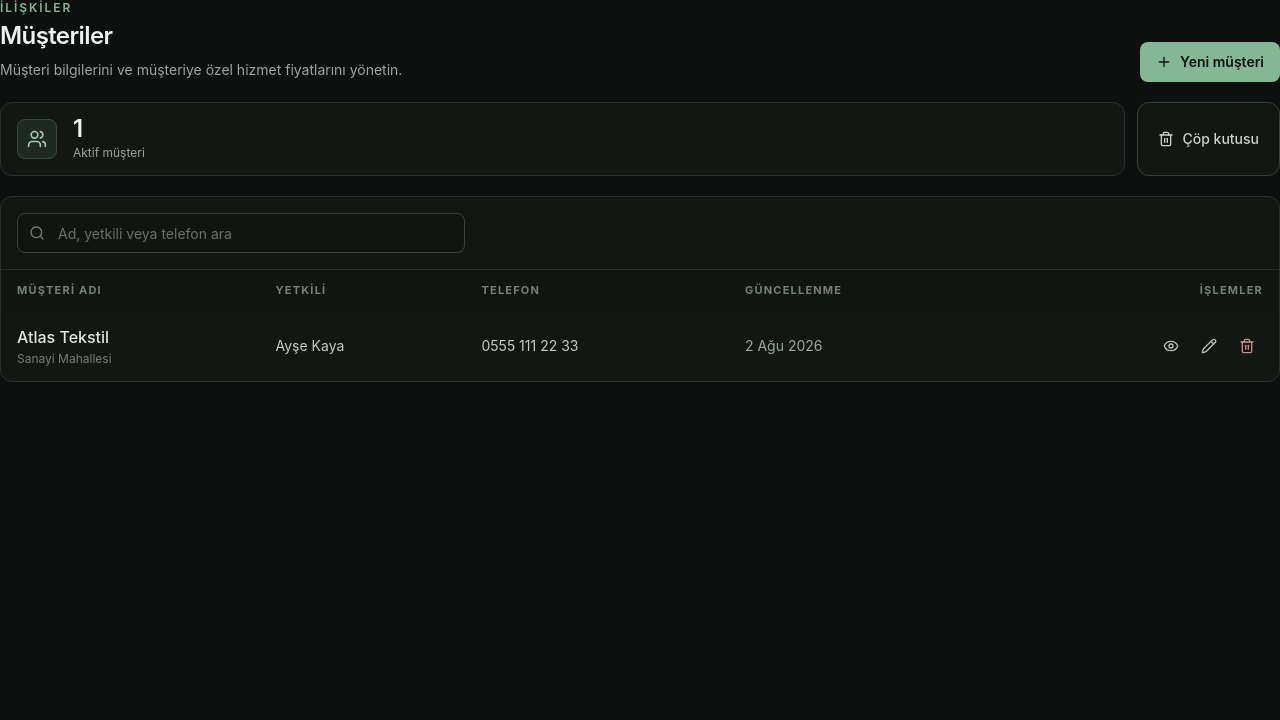
Test: CustomerPage › create formunda zorunlu alan validasyonunu gösterir
Click the button "Yeni müşteri": (1210, 62) 1140,42 -> 1279,82
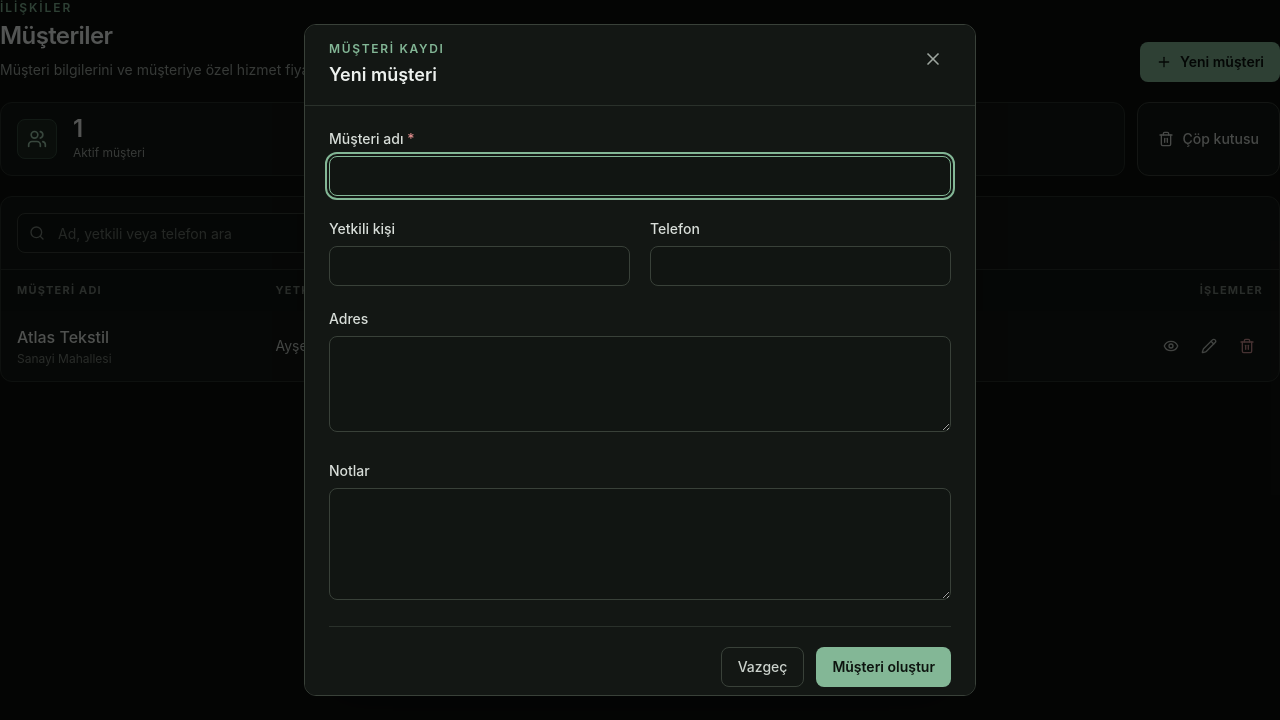
Click the button "Müşteri oluştur": (884, 667) 816,647 -> 951,687
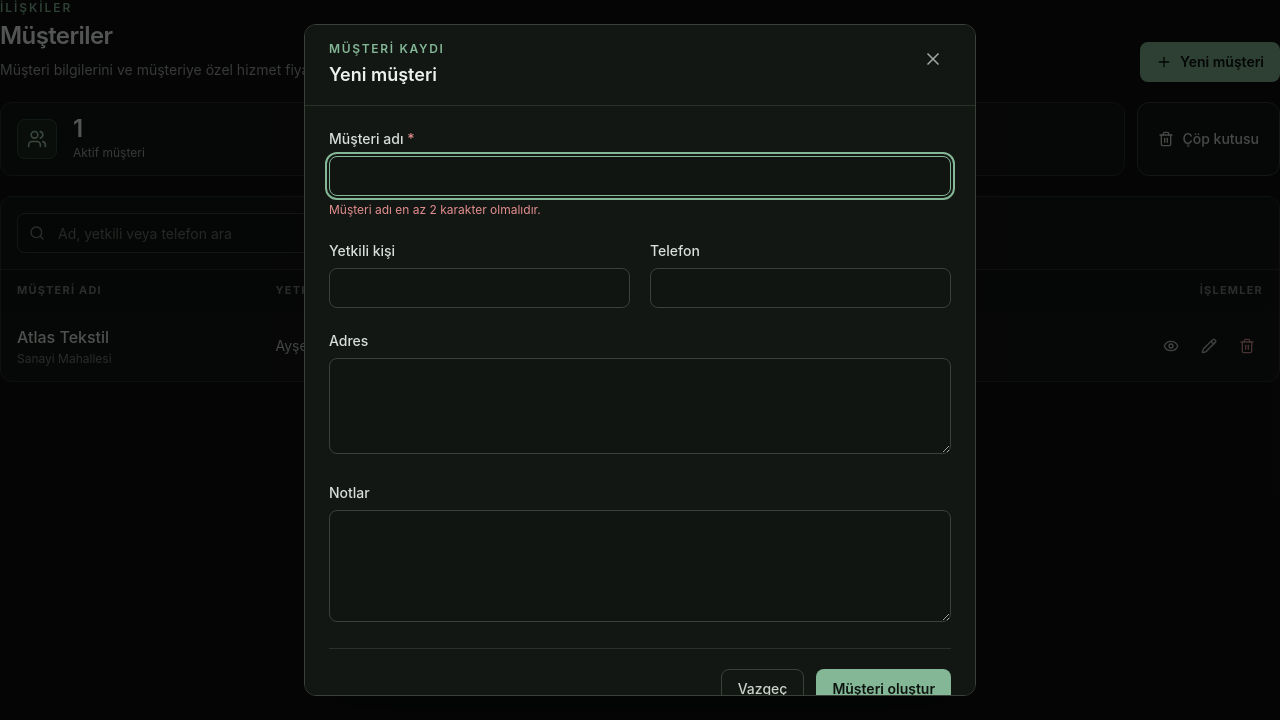
Result: the text "Müşteri adı en az 2 karakter olmalıdır." is shown at 329,202 -> 541,217
